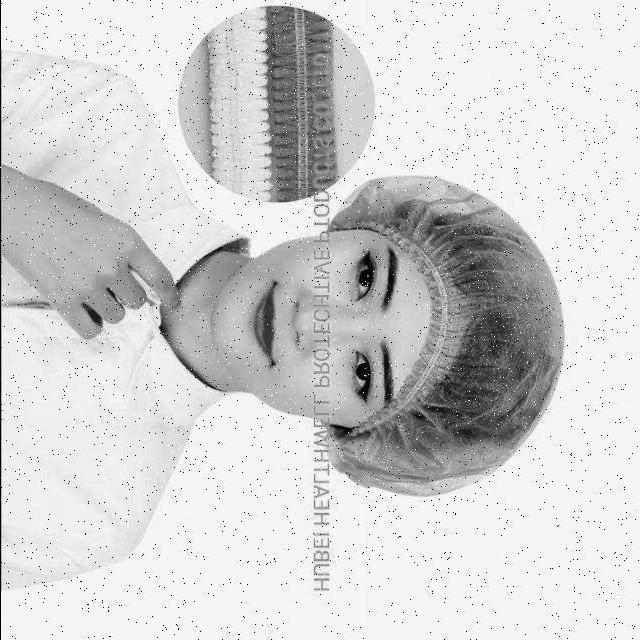no_apron: (0, 172, 204, 344)
no_hairnet: (238, 274, 356, 388)
